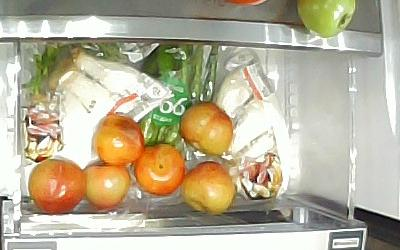prune: (26, 156, 86, 214), (179, 159, 235, 215), (178, 100, 233, 156), (132, 141, 185, 196), (93, 113, 145, 164), (81, 158, 131, 208)
